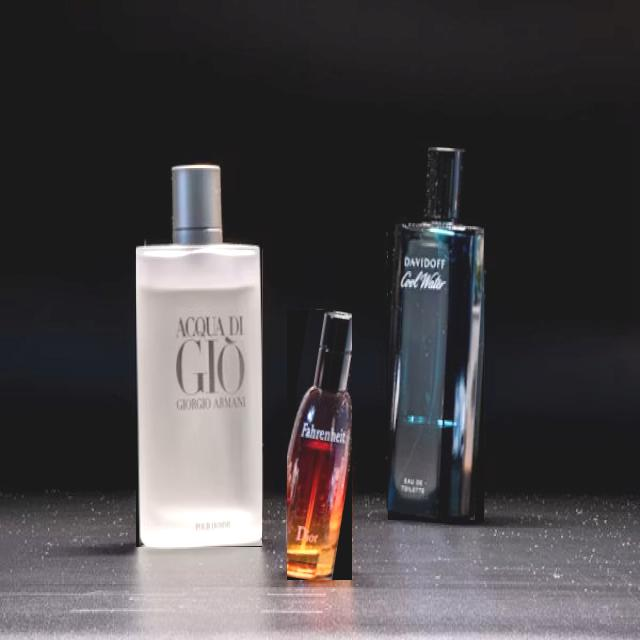Bottle: (137, 165, 262, 547), (389, 148, 484, 519), (287, 311, 351, 579)
